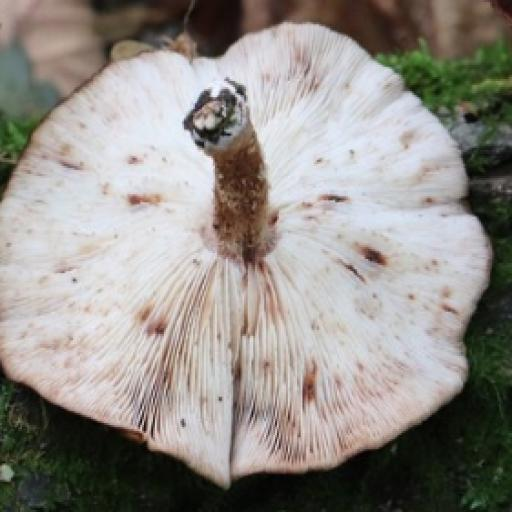Shiitake Mushroom: (0, 17, 485, 482)
